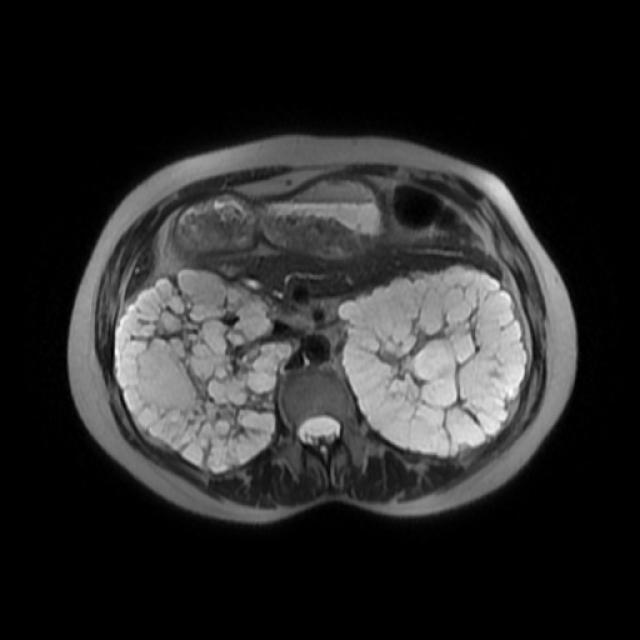sag: (114, 267, 302, 474)
sol: (338, 261, 527, 458)
